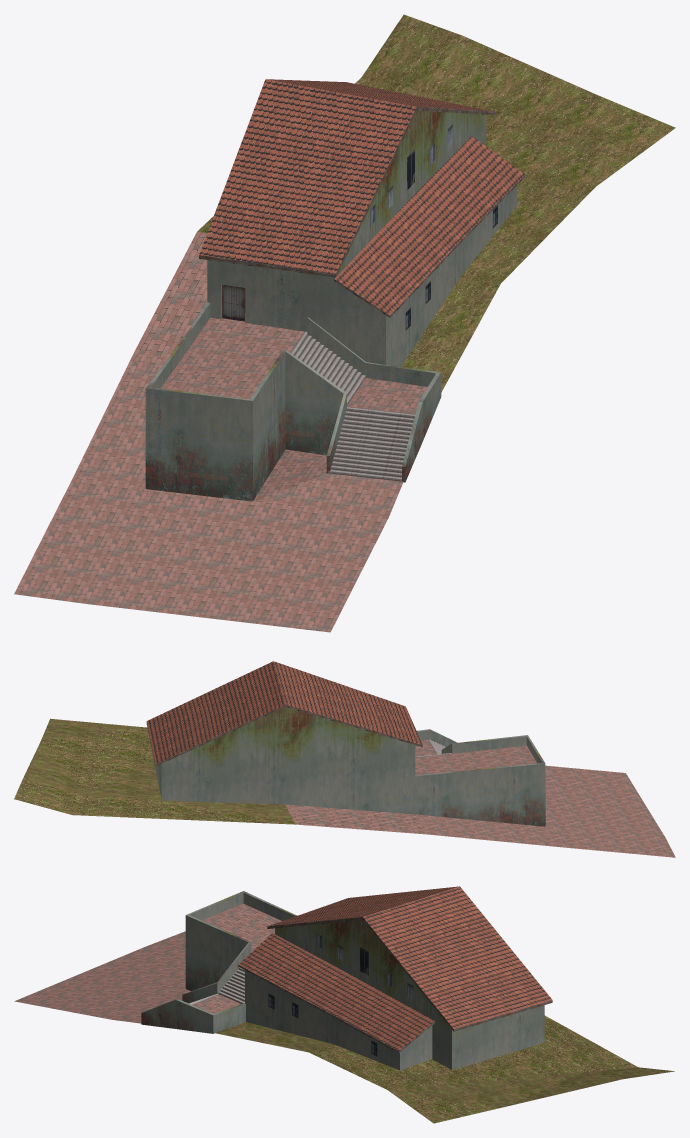
The model's file is laechicano07.obj.
3 renders of one model, top to bottom at view 1: azimuth 30°, elevation 25°; view 2: azimuth 150°, elevation 25°; view 3: azimuth 270°, elevation 25°, orthographic. The views are drawn at different scales.
Parts seen in each view (by area): view 1: laeChicano07; view 2: laeChicano07; view 3: laeChicano07.
Part boxes in pixels (x1,y1,x2,y2): laeChicano07: [14, 14, 675, 632]; laeChicano07: [14, 661, 675, 857]; laeChicano07: [14, 886, 674, 1123].
Size of the model in its own units: 69.89 by 21.98 by 65.78.
